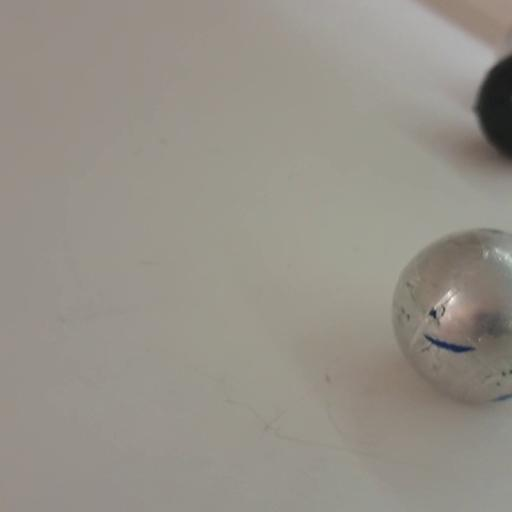alive: (388, 226, 512, 408)
dead: (476, 48, 512, 154)
